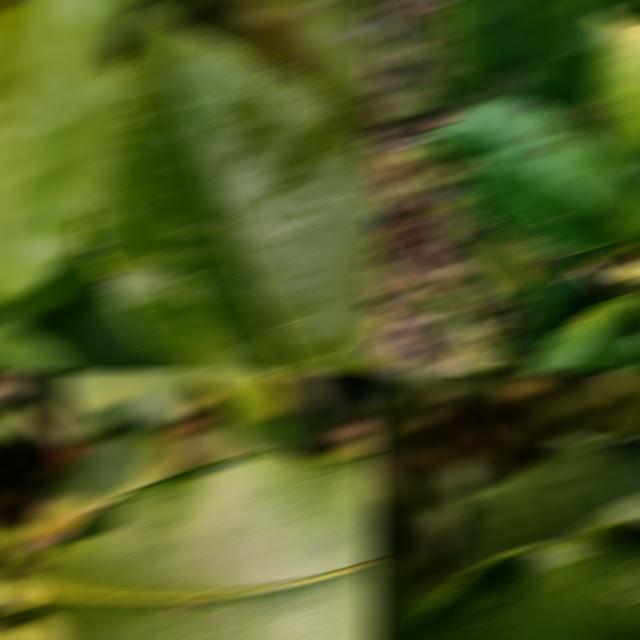Leaf: (81, 10, 377, 370), (32, 453, 377, 638), (419, 433, 640, 603), (0, 2, 119, 303), (420, 100, 640, 252), (395, 518, 640, 638), (26, 429, 186, 541), (249, 4, 377, 127), (472, 2, 580, 105), (506, 256, 610, 350), (365, 499, 426, 638), (522, 296, 636, 370), (559, 2, 640, 105), (590, 11, 640, 145), (439, 2, 506, 102), (455, 226, 539, 302), (417, 276, 500, 340), (195, 372, 290, 420), (124, 372, 203, 423), (35, 2, 137, 40), (451, 317, 519, 370), (57, 372, 137, 415), (506, 72, 563, 105), (577, 249, 610, 269)
